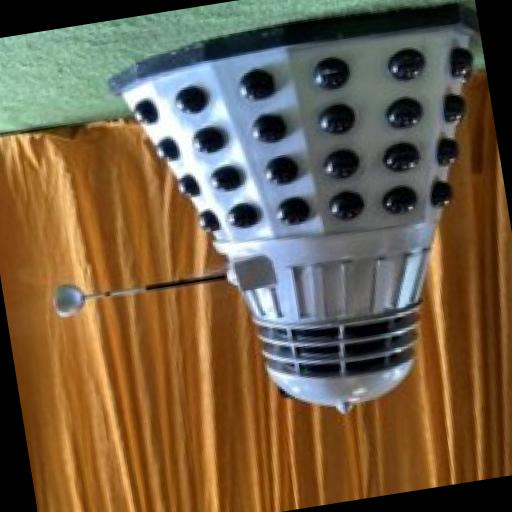dalek: (9, 0, 512, 453)
